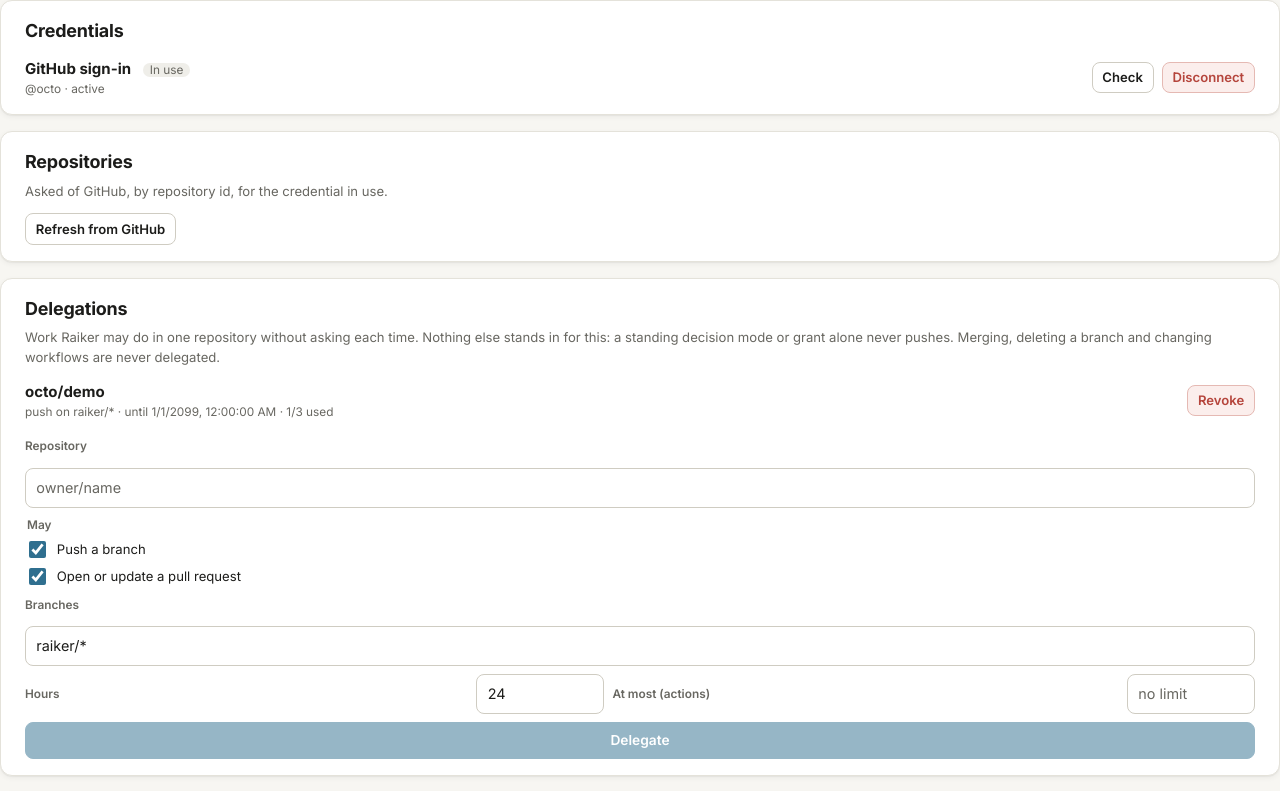
Test case: Settings → GitHub › never offers merging as delegable, and lists and revokes a delegation
(page scrolled)
Check: the text "push on raiker/* · until 1/1/2099, 12:00:00 AM · 1/3 used" is shown, box [25,403,334,421]
Check: the checkbox labelled "Push a branch" is shown, box [29,541,46,558]
What coordinates should you click on to do the following:
click the button "Revoke"
I would click on:
 (1221, 401)
Its box is [1187,385,1255,416].
(page scrolled)
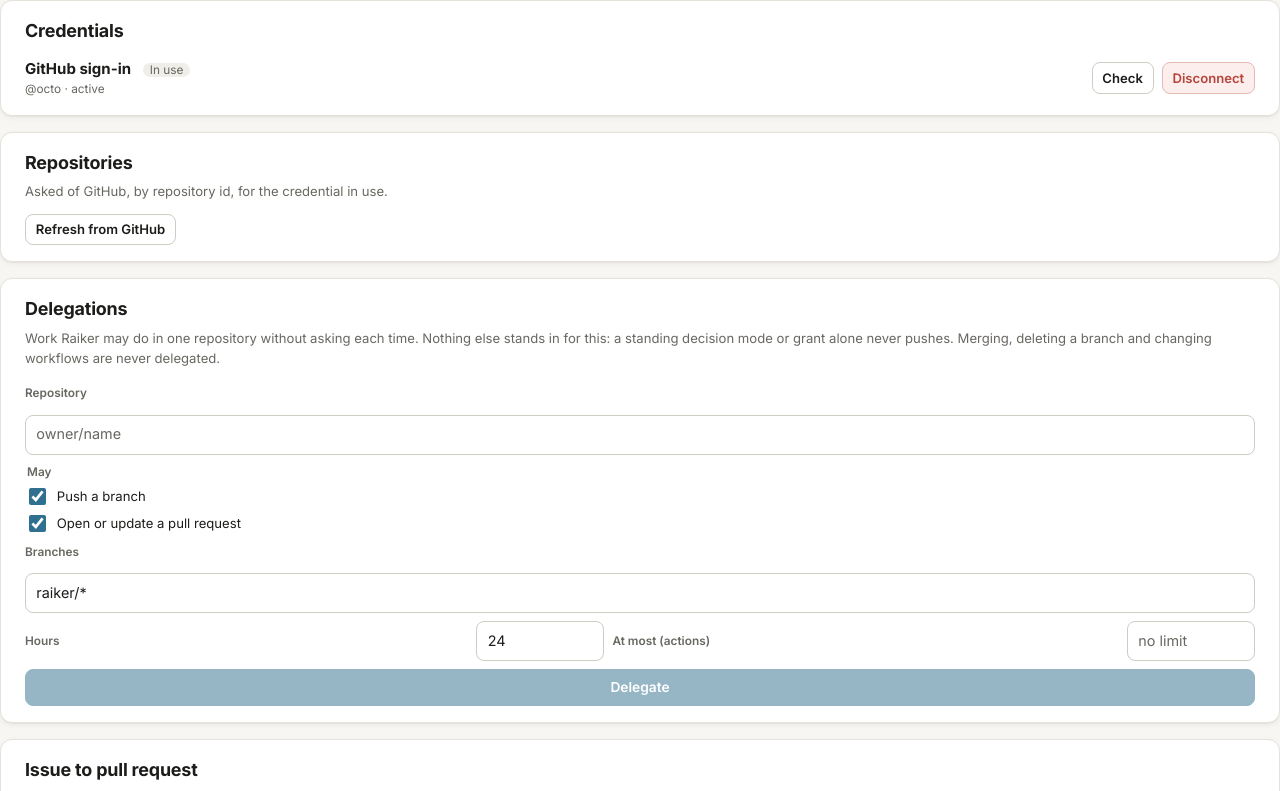
Check: the list with test id "github-delegations" is gone
